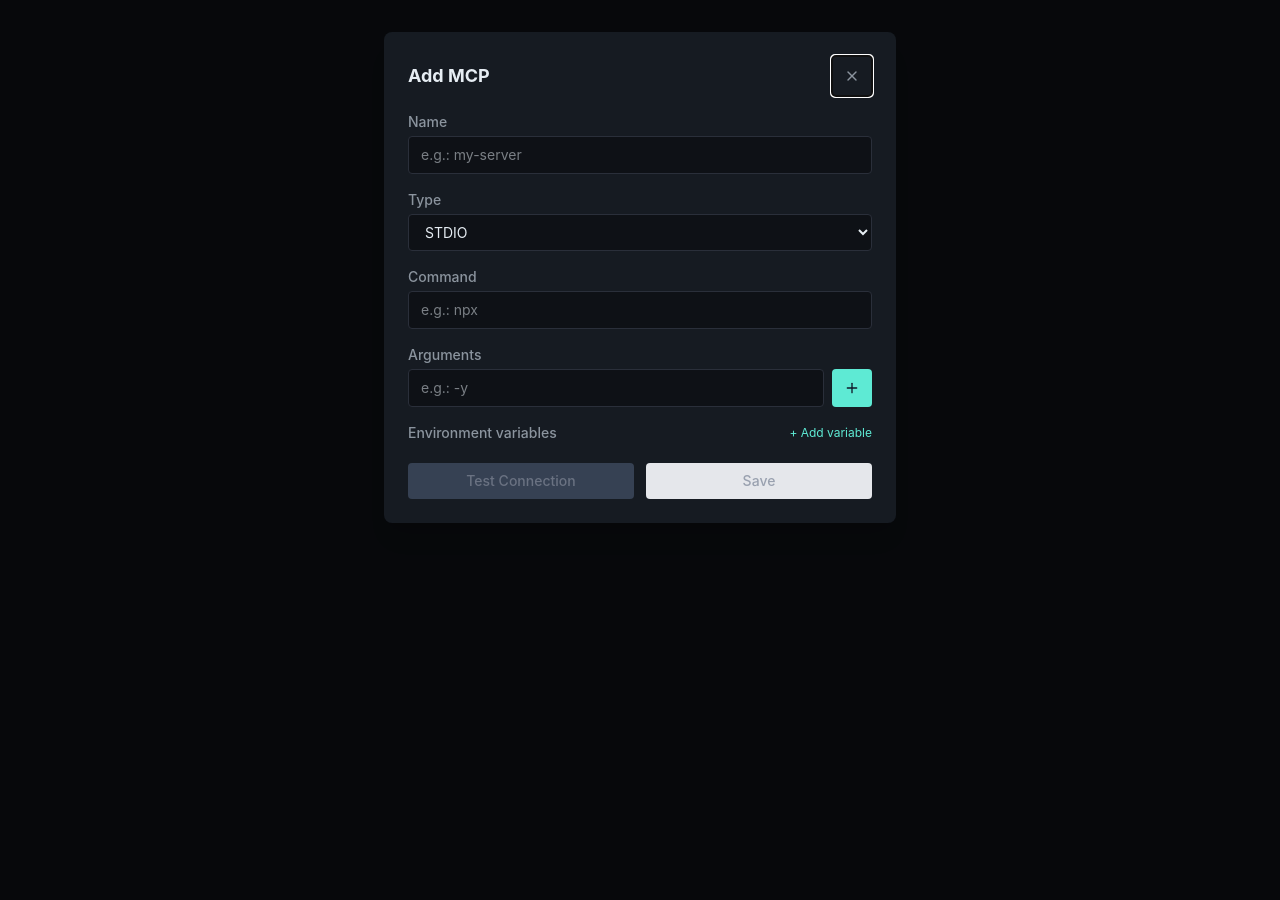
it: AddMCPModal — User Story 2: Save Triggers Auto-Test › shows error when auto-test times out
In the field with placeholder "e.g.: my-server": [640, 155] box [408,136,872,174], type "test-mcp"
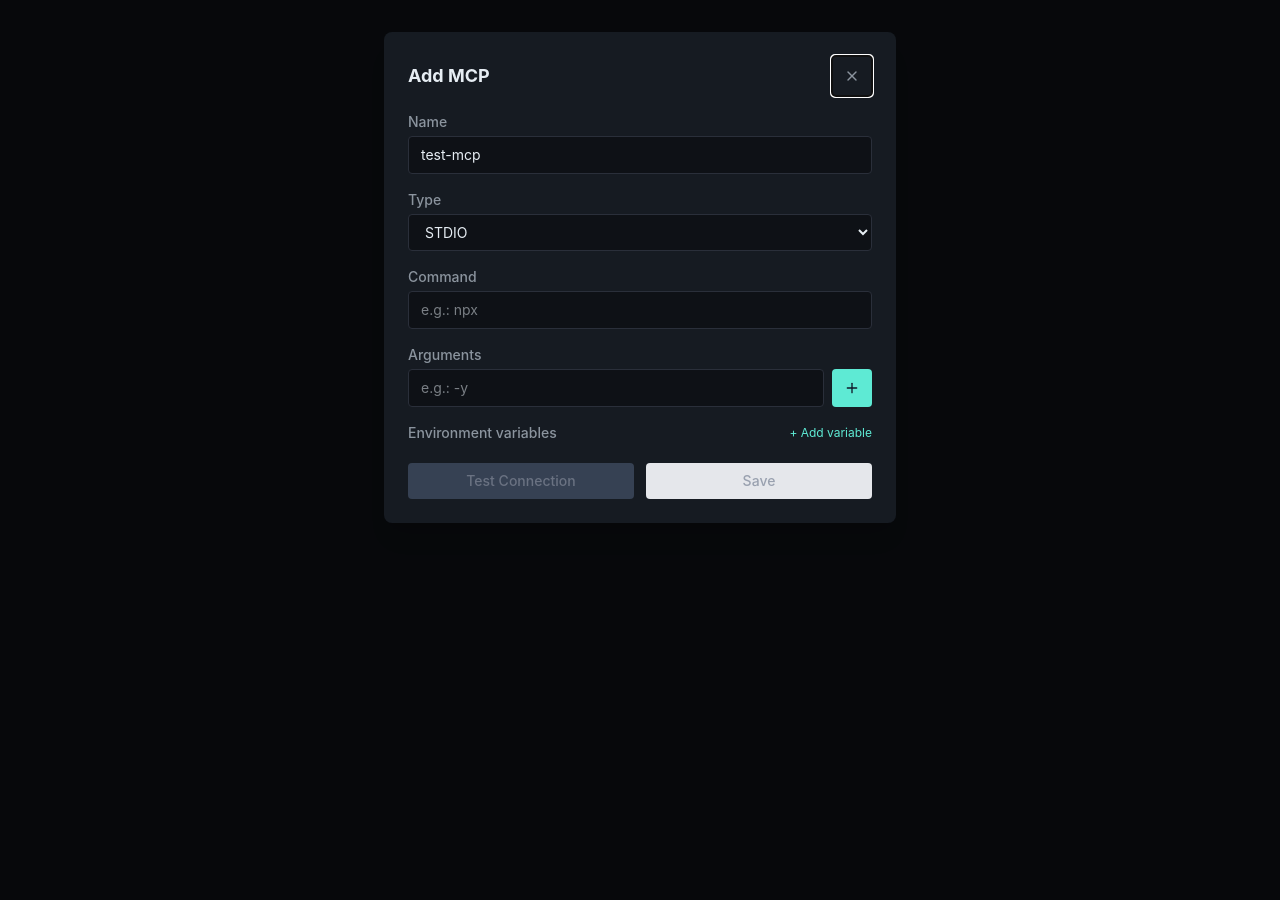
Select "STDIO" in the dropdown showing "STDIO": [640, 232] box [408,214,872,251]
In the field with placeholder "e.g.: npx": [640, 310] box [408,291,872,329], type "echo"
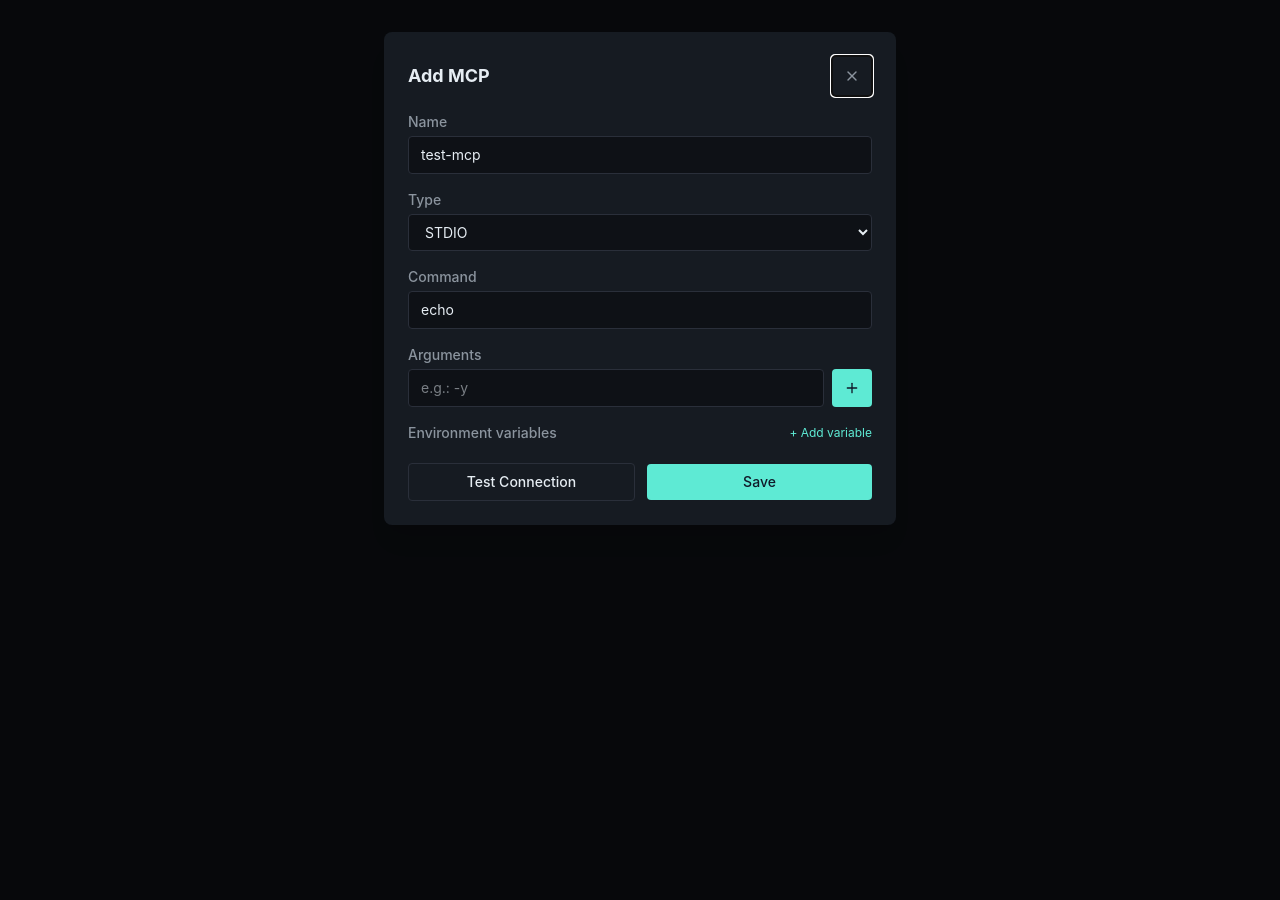
Click the button "Save": [760, 482] box [647,464,872,500]
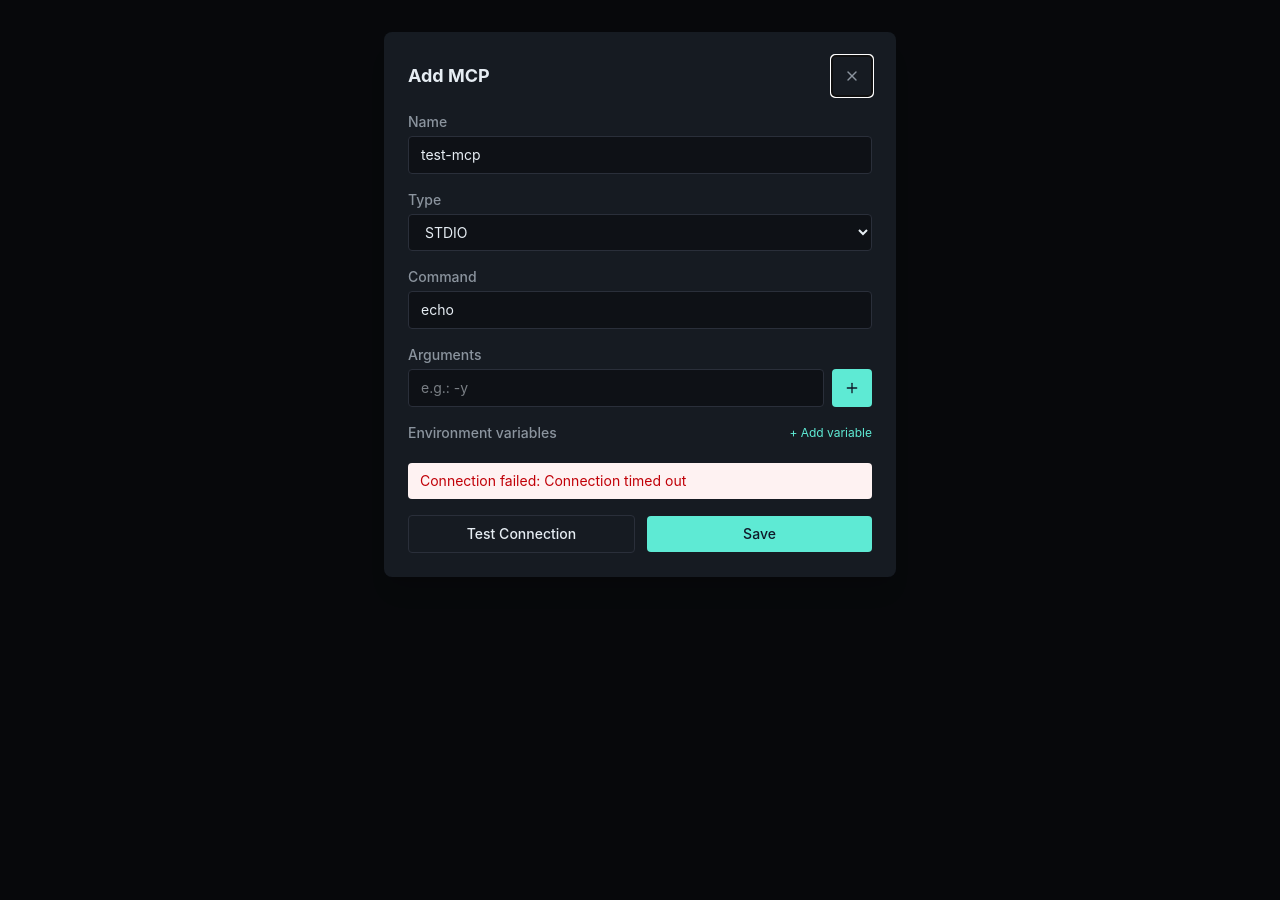
expect the text "Connection failed: Connection timed out" is shown: met, box [408,463,872,499]
